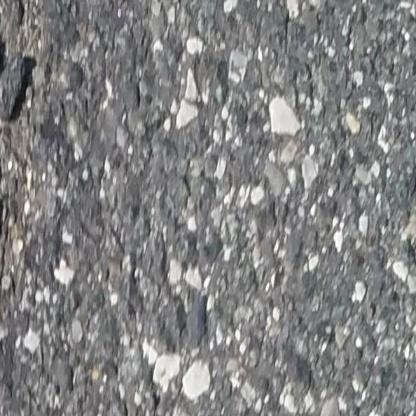Cracks: (0, 0, 50, 359)
